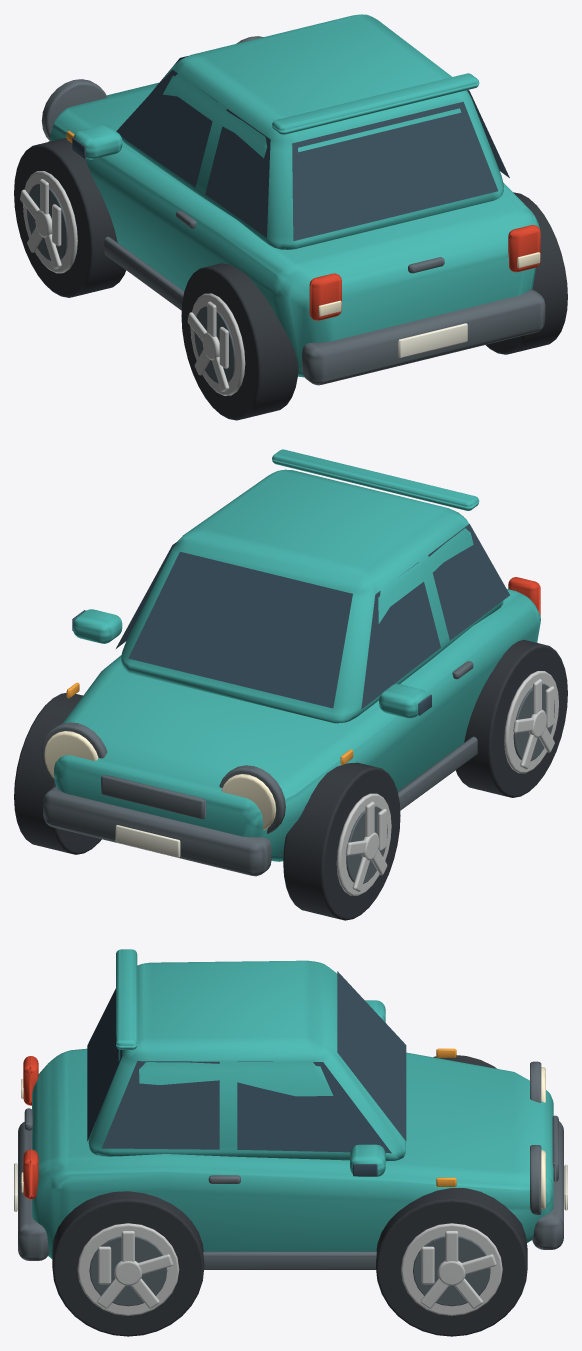
The model's file is little_car.glb.
The picture shows the model from 3 angles, top to bottom: view 1: azimuth 30°, elevation 25°; view 2: azimuth 150°, elevation 25°; view 3: azimuth 270°, elevation 25°; orthographic projection. The views are drawn at different scales.
Parts seen in each view (by area): view 1: Body, Tyre.001, Tyre, Tyre.003, AlloyRim.001, AlloyRim, DarkInset.001, DarkInset; view 2: Body, Tyre, Tyre.001, Tyre.002, AlloyRim.001, AlloyRim, DarkInset, DarkInset.001; view 3: Body, Tyre.002, Tyre.003, AlloyRim.002, AlloyRim.003, DarkInset.002, DarkInset.003, Hub.002, Hub.003, Spoke.014, Spoke.019.
Boxes of the visible parts, x1,y1,x2,y2 form: Body: (41,14,545,385); Tyre.001: (181,263,298,420); Tyre: (14,138,126,297); Tyre.003: (486,192,567,354); AlloyRim.001: (190,293,245,395); AlloyRim: (23,171,77,273); DarkInset.001: (194,306,235,383); DarkInset: (27,183,68,260); Body: (41,449,540,876); Tyre: (283,762,400,920); Tyre.001: (456,640,567,797); Tyre.002: (14,693,101,854); AlloyRim.001: (504,671,558,773); AlloyRim: (336,793,391,895); DarkInset: (346,806,387,883); DarkInset.001: (513,683,554,761); Body: (14,949,567,1269); Tyre.002: (376,1188,527,1336); Tyre.003: (52,1191,204,1336); AlloyRim.002: (401,1223,502,1315); AlloyRim.003: (77,1223,179,1315); DarkInset.002: (413,1236,490,1306); DarkInset.003: (89,1236,167,1306); Hub.002: (437,1260,465,1285); Hub.003: (114,1261,142,1285); Spoke.014: (421,1246,434,1284); Spoke.019: (98,1246,111,1284).
Bounding box in the file's own units: 2.17 × 1.66 × 3.1.
